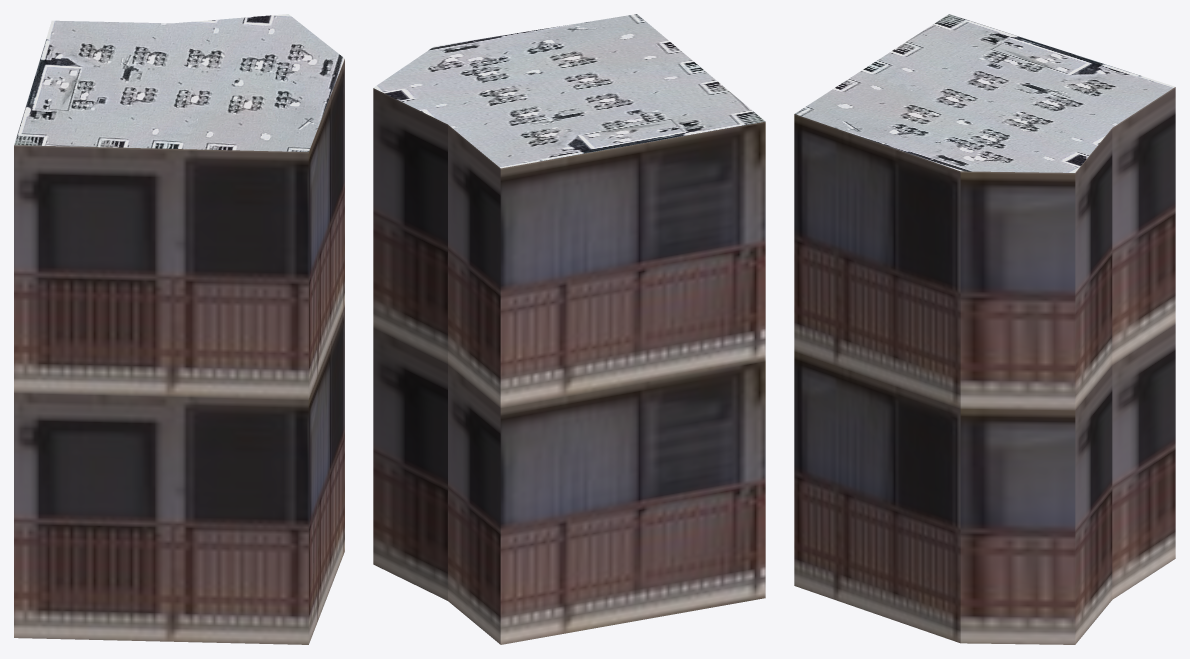
Rendered from ResTex__74.fbx.
The picture shows the model from 3 angles, left to right: view 1: azimuth 30°, elevation 25°; view 2: azimuth 150°, elevation 25°; view 3: azimuth 270°, elevation 25°; orthographic projection. The views are drawn at different scales.
Parts seen in each view (by area): view 1: CityEngineMaterial_6_m, CityEngineMaterial_8_m; view 2: CityEngineMaterial_6_m, CityEngineMaterial_8_m; view 3: CityEngineMaterial_6_m, CityEngineMaterial_8_m.
Boxes of the visible parts, bbox=[...] form: CityEngineMaterial_6_m: bbox=[14, 59, 344, 644]; CityEngineMaterial_8_m: bbox=[14, 14, 344, 151]; CityEngineMaterial_6_m: bbox=[373, 88, 765, 644]; CityEngineMaterial_8_m: bbox=[373, 14, 765, 168]; CityEngineMaterial_6_m: bbox=[794, 87, 1175, 644]; CityEngineMaterial_8_m: bbox=[795, 14, 1174, 172].
Size of the model in its own units: 4.33 by 6 by 4.39.
Materials: 2 (2 with a texture image).
